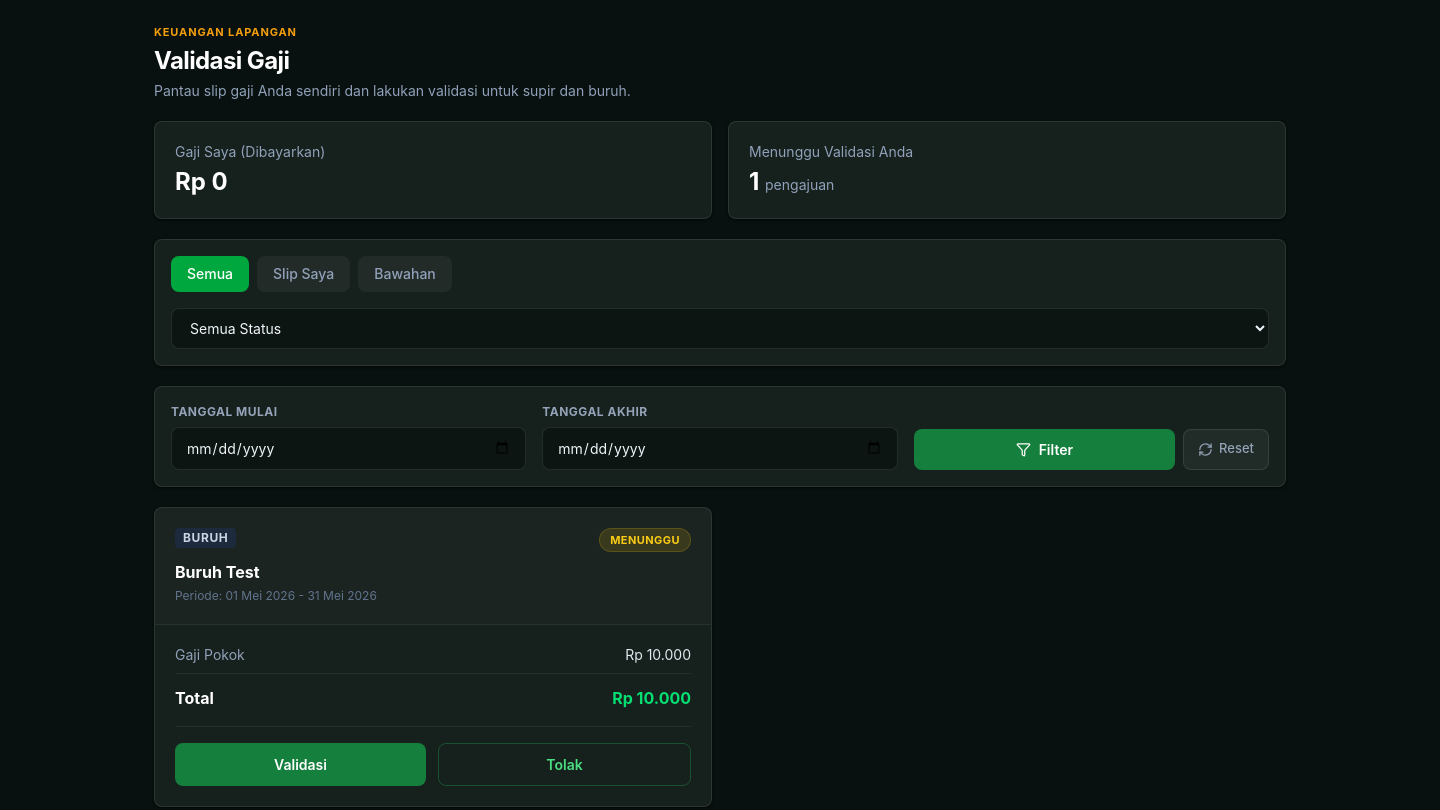
Test: Mandor payroll negative guards › blocks rejecting subordinate payroll without a reason
The width and height of the screenshot is (1440, 810).
Click the button "Tolak".
click(564, 764)  # box [438, 743, 691, 786]
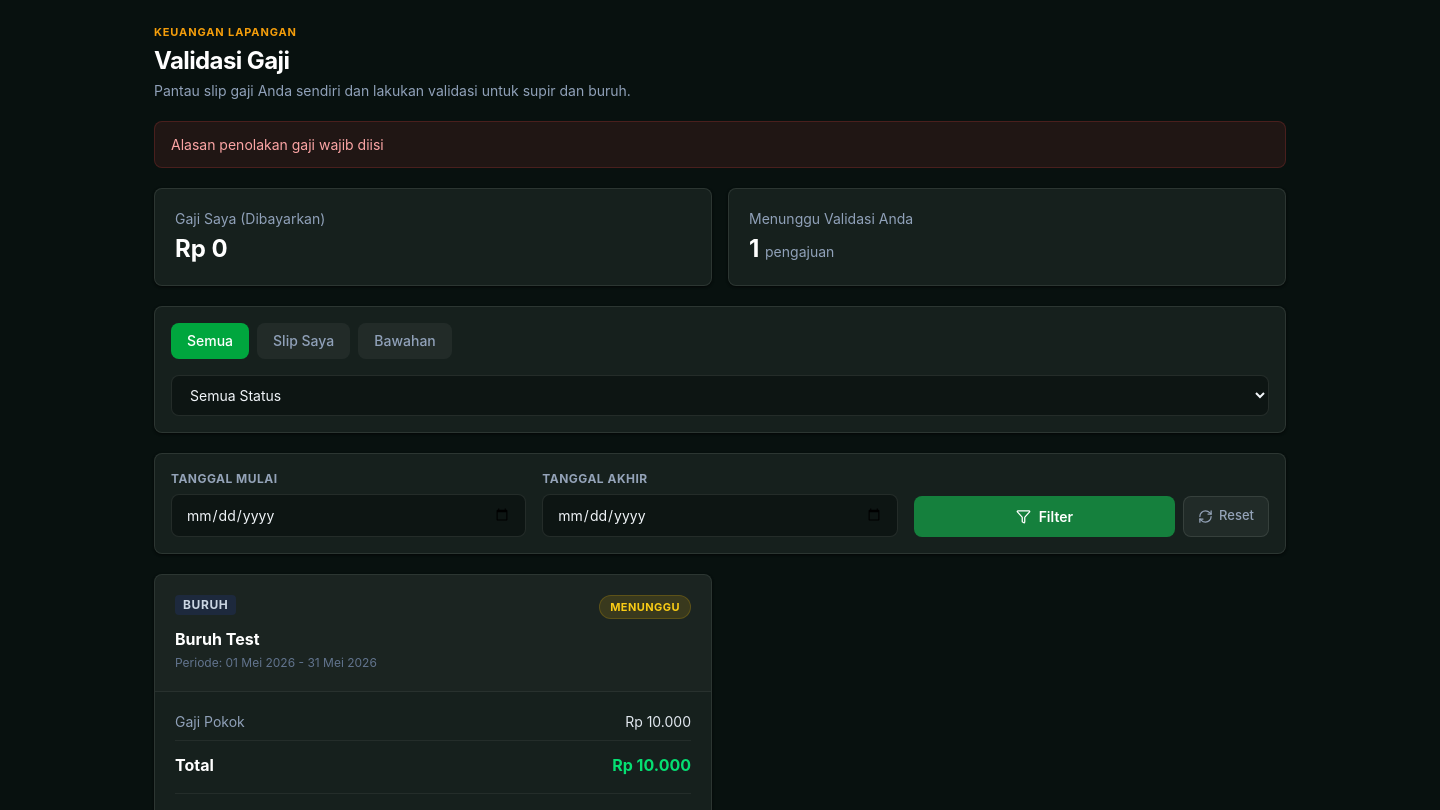
expect the text "Alasan penolakan gaji wajib diisi" is shown: met, box [171, 134, 384, 154]
